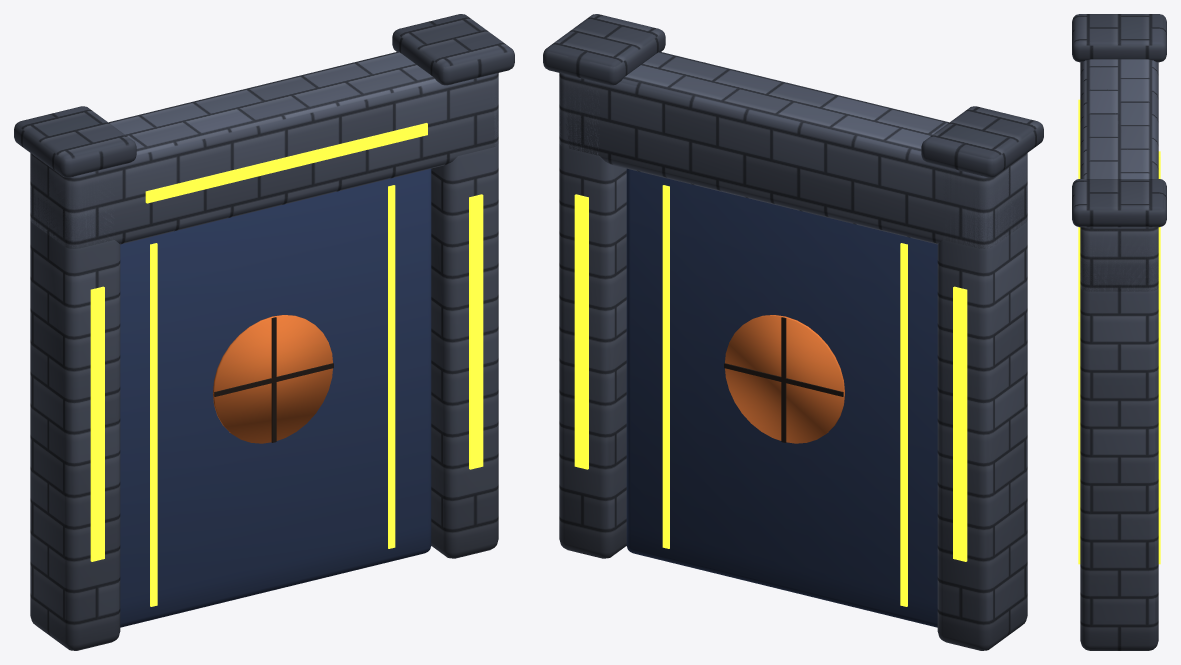
Rendered from Gate.fbx.
3 views of the same model, side by side, from view 1: azimuth 30°, elevation 25°; view 2: azimuth 150°, elevation 25°; view 3: azimuth 270°, elevation 25° (orthographic). The views are drawn at different scales.
Visible parts, largest first — view 1: Gate_Body, GatePanel; view 2: Gate_Body, GatePanel; view 3: Gate_Body.
Boxes of the visible parts, x1,y1,x2,y2 form: Gate_Body: (14,14,514,650); GatePanel: (120,168,431,627); Gate_Body: (543,14,1043,650); GatePanel: (626,168,937,627); Gate_Body: (1072,14,1166,650).
Bounding box in the file's own units: 4.2 × 4.45 × 0.85.
3 materials, 2 textured.
